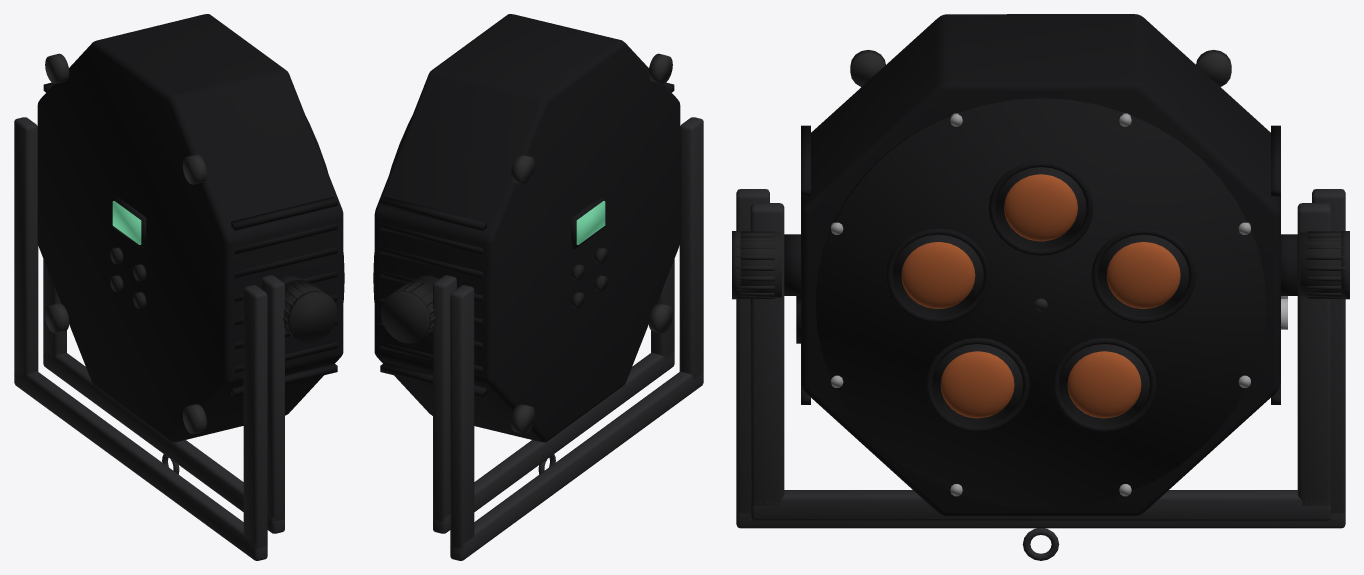
The picture shows the model from 3 angles, left to right: view 1: azimuth 30°, elevation 25°; view 2: azimuth 150°, elevation 25°; view 3: azimuth 270°, elevation 25°; orthographic projection. The views are drawn at different scales.
Parts seen in each view (by area): view 1: MTP_Housing, MTP_YokeOuter, MTP_YokeInner, MTP_Knob_L_cap, MTP_Fin_0_7, MTP_Display, MTP_Fin_0_5, MTP_Fin_0_6, MTP_Fin_0_0, MTP_Foot_1, MTP_Foot_0, MTP_Foot_2 (+3 smaller); view 2: MTP_Housing, MTP_YokeOuter, MTP_YokeInner, MTP_Knob_R_cap, MTP_Fin_1_7, MTP_Display, MTP_Fin_1_5, MTP_Fin_1_6, MTP_Fin_1_0, MTP_Foot_0, MTP_Foot_1, MTP_Foot_2 (+3 smaller); view 3: MTP_FrontPlate, MTP_Housing, MTP_YokeInner, MTP_YokeOuter, MTP_Lens_0, MTP_Lens_2, MTP_Lens_3, MTP_Lens_1, MTP_Lens_4, MTP_Cup_2, MTP_Cup_3, MTP_Cup_0 (+13 smaller).
Part boxes in pixels (x1=…): MTP_Housing: x1=37, y1=14, x2=343, y2=442; MTP_YokeOuter: x1=14, y1=117, x2=267, y2=560; MTP_YokeInner: x1=43, y1=259, x2=284, y2=533; MTP_Knob_L_cap: x1=286, y1=290, x2=337, y2=343; MTP_Fin_0_7: x1=231, y1=196, x2=337, y2=230; MTP_Display: x1=112, y1=201, x2=141, y2=244; MTP_Fin_0_5: x1=235, y1=247, x2=337, y2=278; MTP_Fin_0_6: x1=235, y1=223, x2=337, y2=254; MTP_Fin_0_0: x1=231, y1=363, x2=337, y2=396; MTP_Foot_1: x1=45, y1=303, x2=69, y2=333; MTP_Foot_0: x1=182, y1=404, x2=206, y2=434; MTP_Foot_2: x1=182, y1=154, x2=206, y2=184; MTP_Housing: x1=374, y1=14, x2=680, y2=442; MTP_YokeOuter: x1=450, y1=117, x2=703, y2=560; MTP_YokeInner: x1=433, y1=259, x2=674, y2=533; MTP_Knob_R_cap: x1=380, y1=290, x2=431, y2=343; MTP_Fin_1_7: x1=380, y1=196, x2=486, y2=230; MTP_Display: x1=576, y1=201, x2=605, y2=244; MTP_Fin_1_5: x1=380, y1=247, x2=482, y2=278; MTP_Fin_1_6: x1=380, y1=223, x2=482, y2=254; MTP_Fin_1_0: x1=380, y1=363, x2=486, y2=396; MTP_Foot_0: x1=648, y1=303, x2=672, y2=333; MTP_Foot_1: x1=511, y1=404, x2=535, y2=434; MTP_Foot_2: x1=648, y1=53, x2=672, y2=83; MTP_FrontPlate: x1=815, y1=97, x2=1266, y2=508; MTP_Housing: x1=801, y1=14, x2=1280, y2=516; MTP_YokeInner: x1=750, y1=203, x2=1331, y2=520; MTP_YokeOuter: x1=736, y1=189, x2=1345, y2=528; MTP_Lens_0: x1=1004, y1=174, x2=1077, y2=241; MTP_Lens_2: x1=1067, y1=351, x2=1141, y2=418; MTP_Lens_3: x1=940, y1=351, x2=1014, y2=418; MTP_Lens_1: x1=1106, y1=242, x2=1180, y2=308; MTP_Lens_4: x1=901, y1=242, x2=975, y2=308; MTP_Cup_2: x1=1059, y1=344, x2=1149, y2=426; MTP_Cup_3: x1=932, y1=344, x2=1022, y2=426; MTP_Cup_0: x1=995, y1=167, x2=1086, y2=249.
Bounding box in the file's own units: 0.0867 × 0.2416 × 0.2576.
